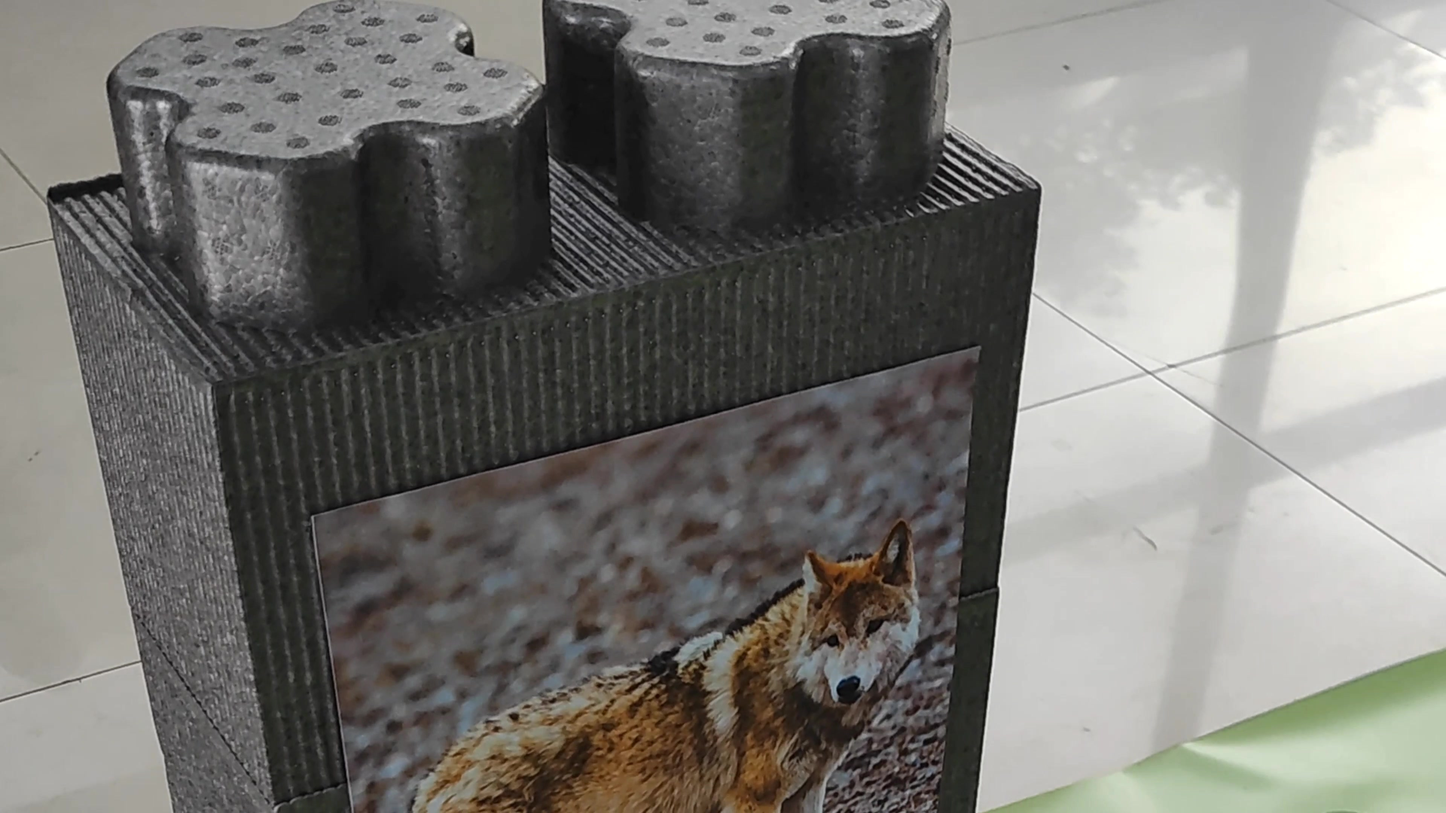wolf: (356, 505, 927, 813)
